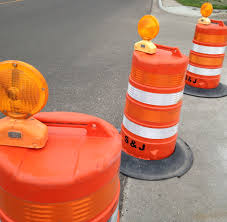barrel: (1, 113, 119, 222), (120, 47, 186, 154), (183, 21, 226, 89)
